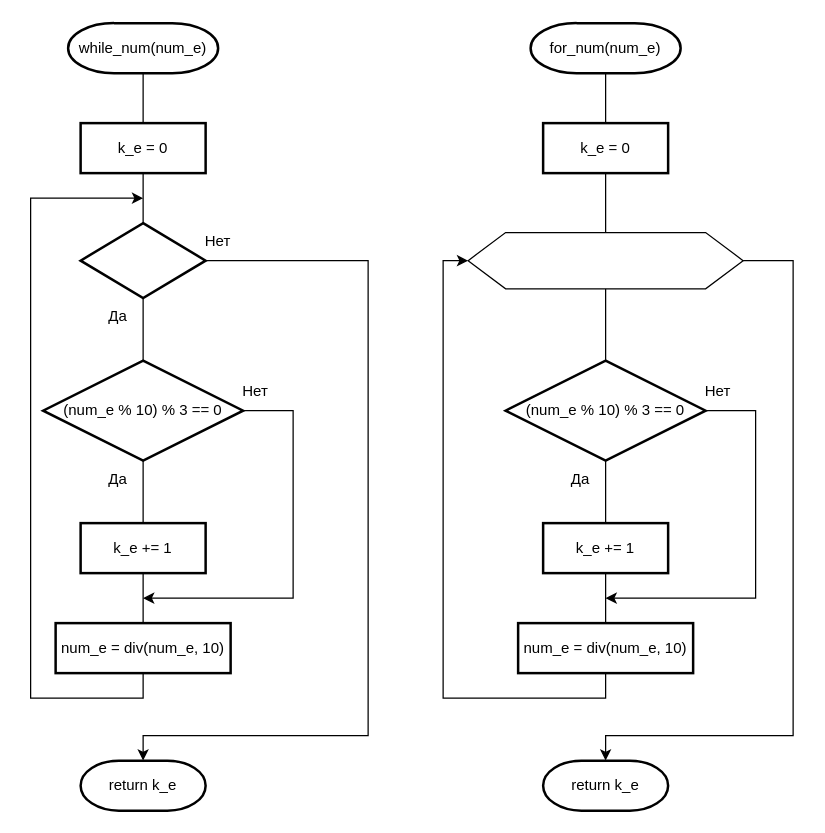
Image size: 825x833. Some labels were removed from this diagram. The centre of each missing label's shape, as x and y in pixels:
i = 1, length(string(num_e)): the point at 605,260
num_e > 0: the point at 142,260
